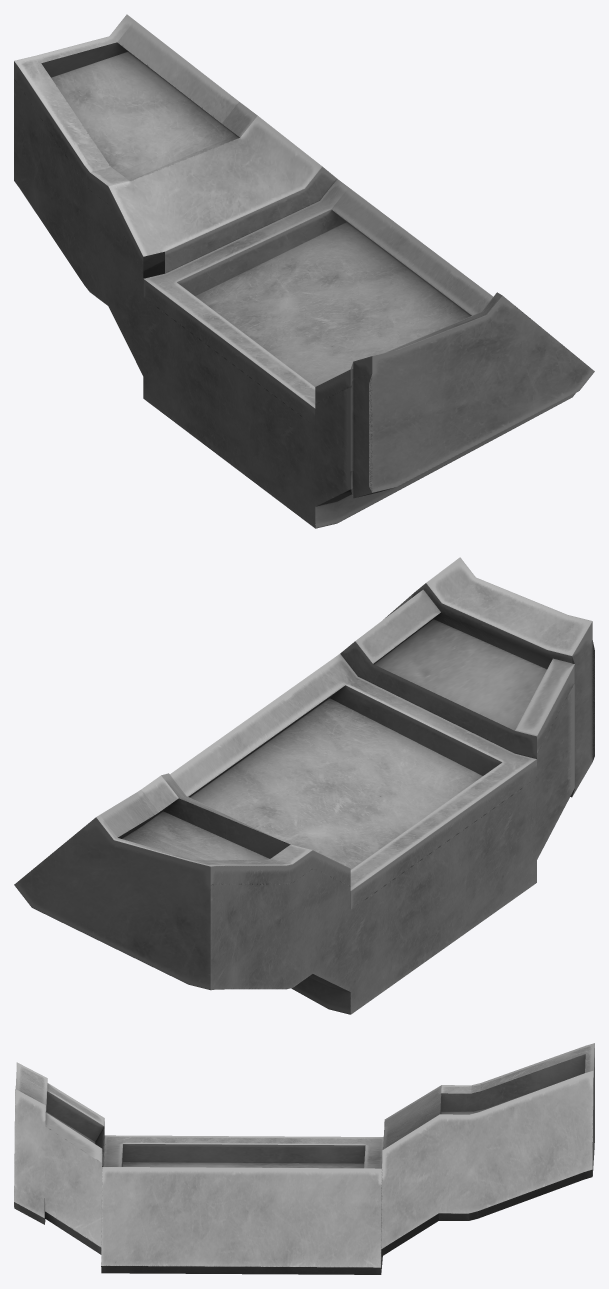
File: corner inner.FBX
3 renders of one model, top to bottom at view 1: azimuth 30°, elevation 25°; view 2: azimuth 150°, elevation 25°; view 3: azimuth 270°, elevation 25°, orthographic. The views are drawn at different scales.
Visible parts, largest first — view 1: pPlane66; view 2: pPlane66; view 3: pPlane66.
Part boxes in pixels (box(x1,y1,x2,y2)): pPlane66: box(14, 14, 594, 528); pPlane66: box(14, 557, 594, 1014); pPlane66: box(14, 1043, 594, 1274).
Size of the model in its own units: 39.05 by 34.86 by 89.
1 material, 1 textured.
